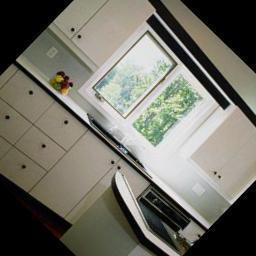Lavaplatos: (72, 100, 163, 190)
